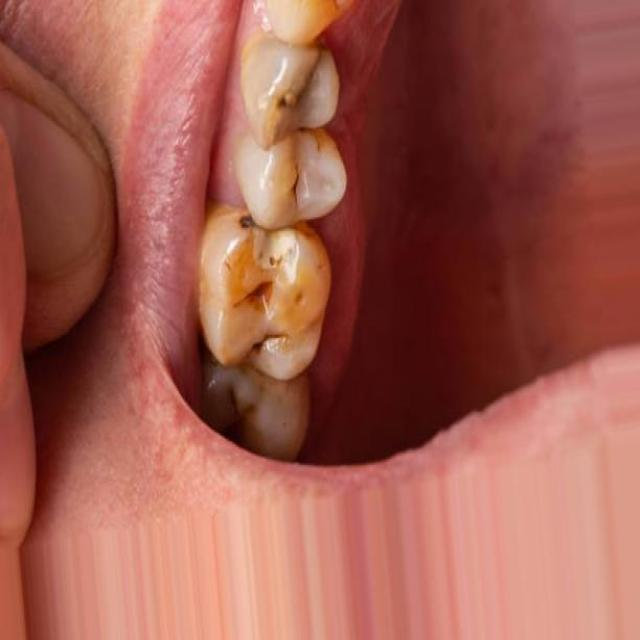caries: (235, 270, 277, 326), (244, 328, 294, 367), (268, 76, 306, 125), (286, 158, 316, 210), (233, 204, 262, 242), (288, 279, 312, 319), (266, 240, 292, 274)
